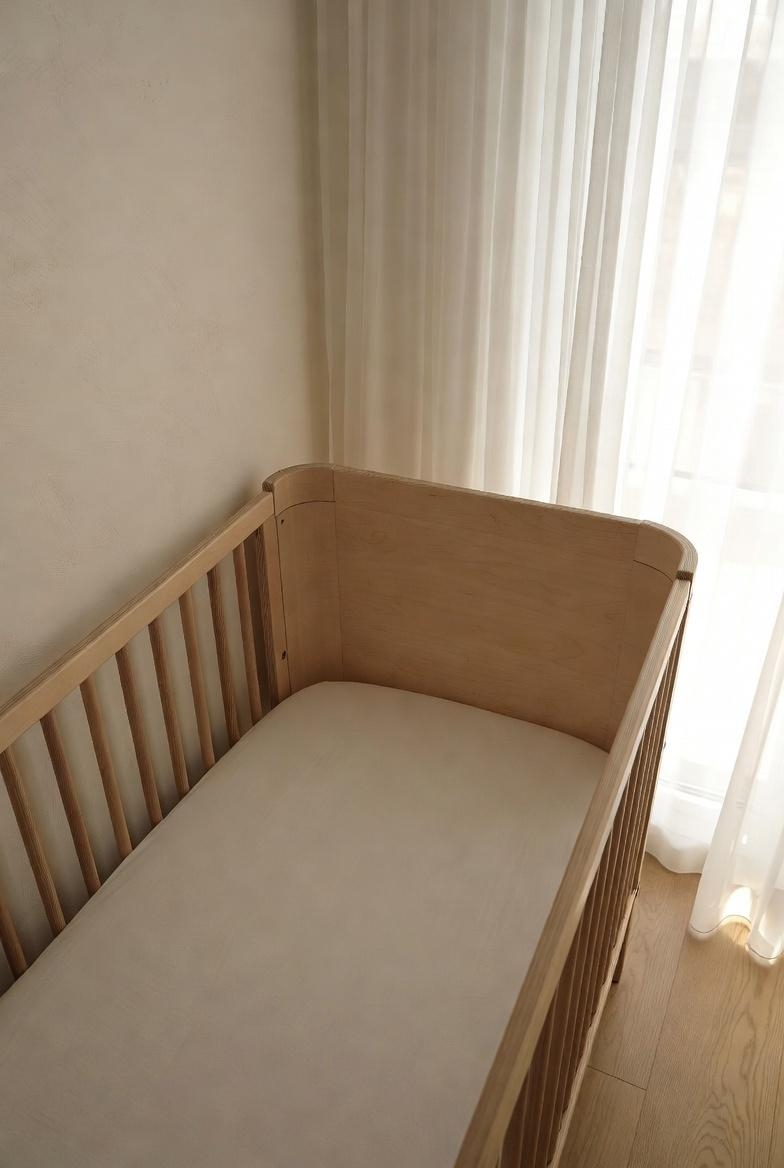crib: (0, 452, 708, 1168)
